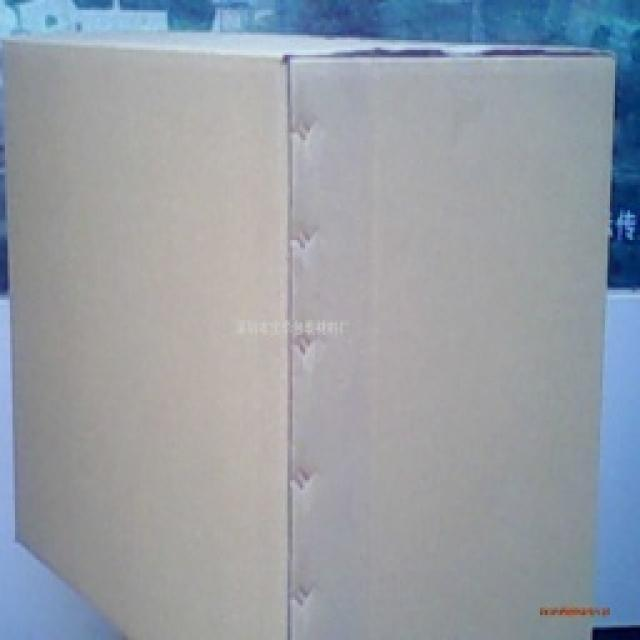box: (0, 22, 613, 640)
